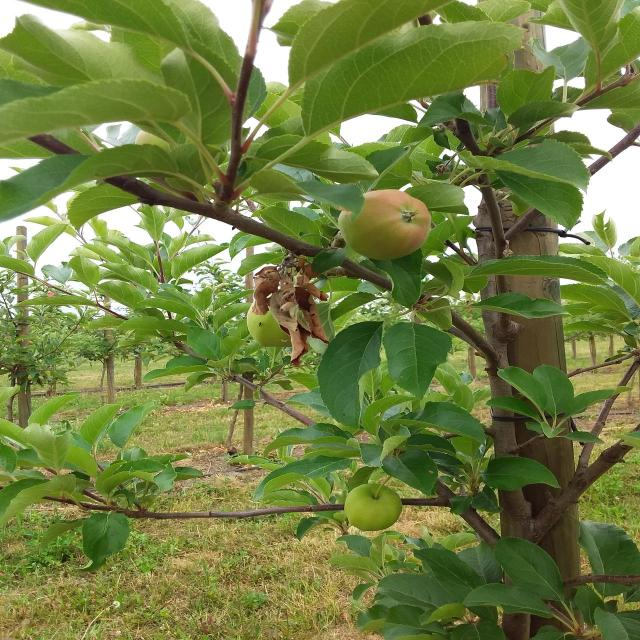-FireBlight-: (246, 248, 330, 348)
